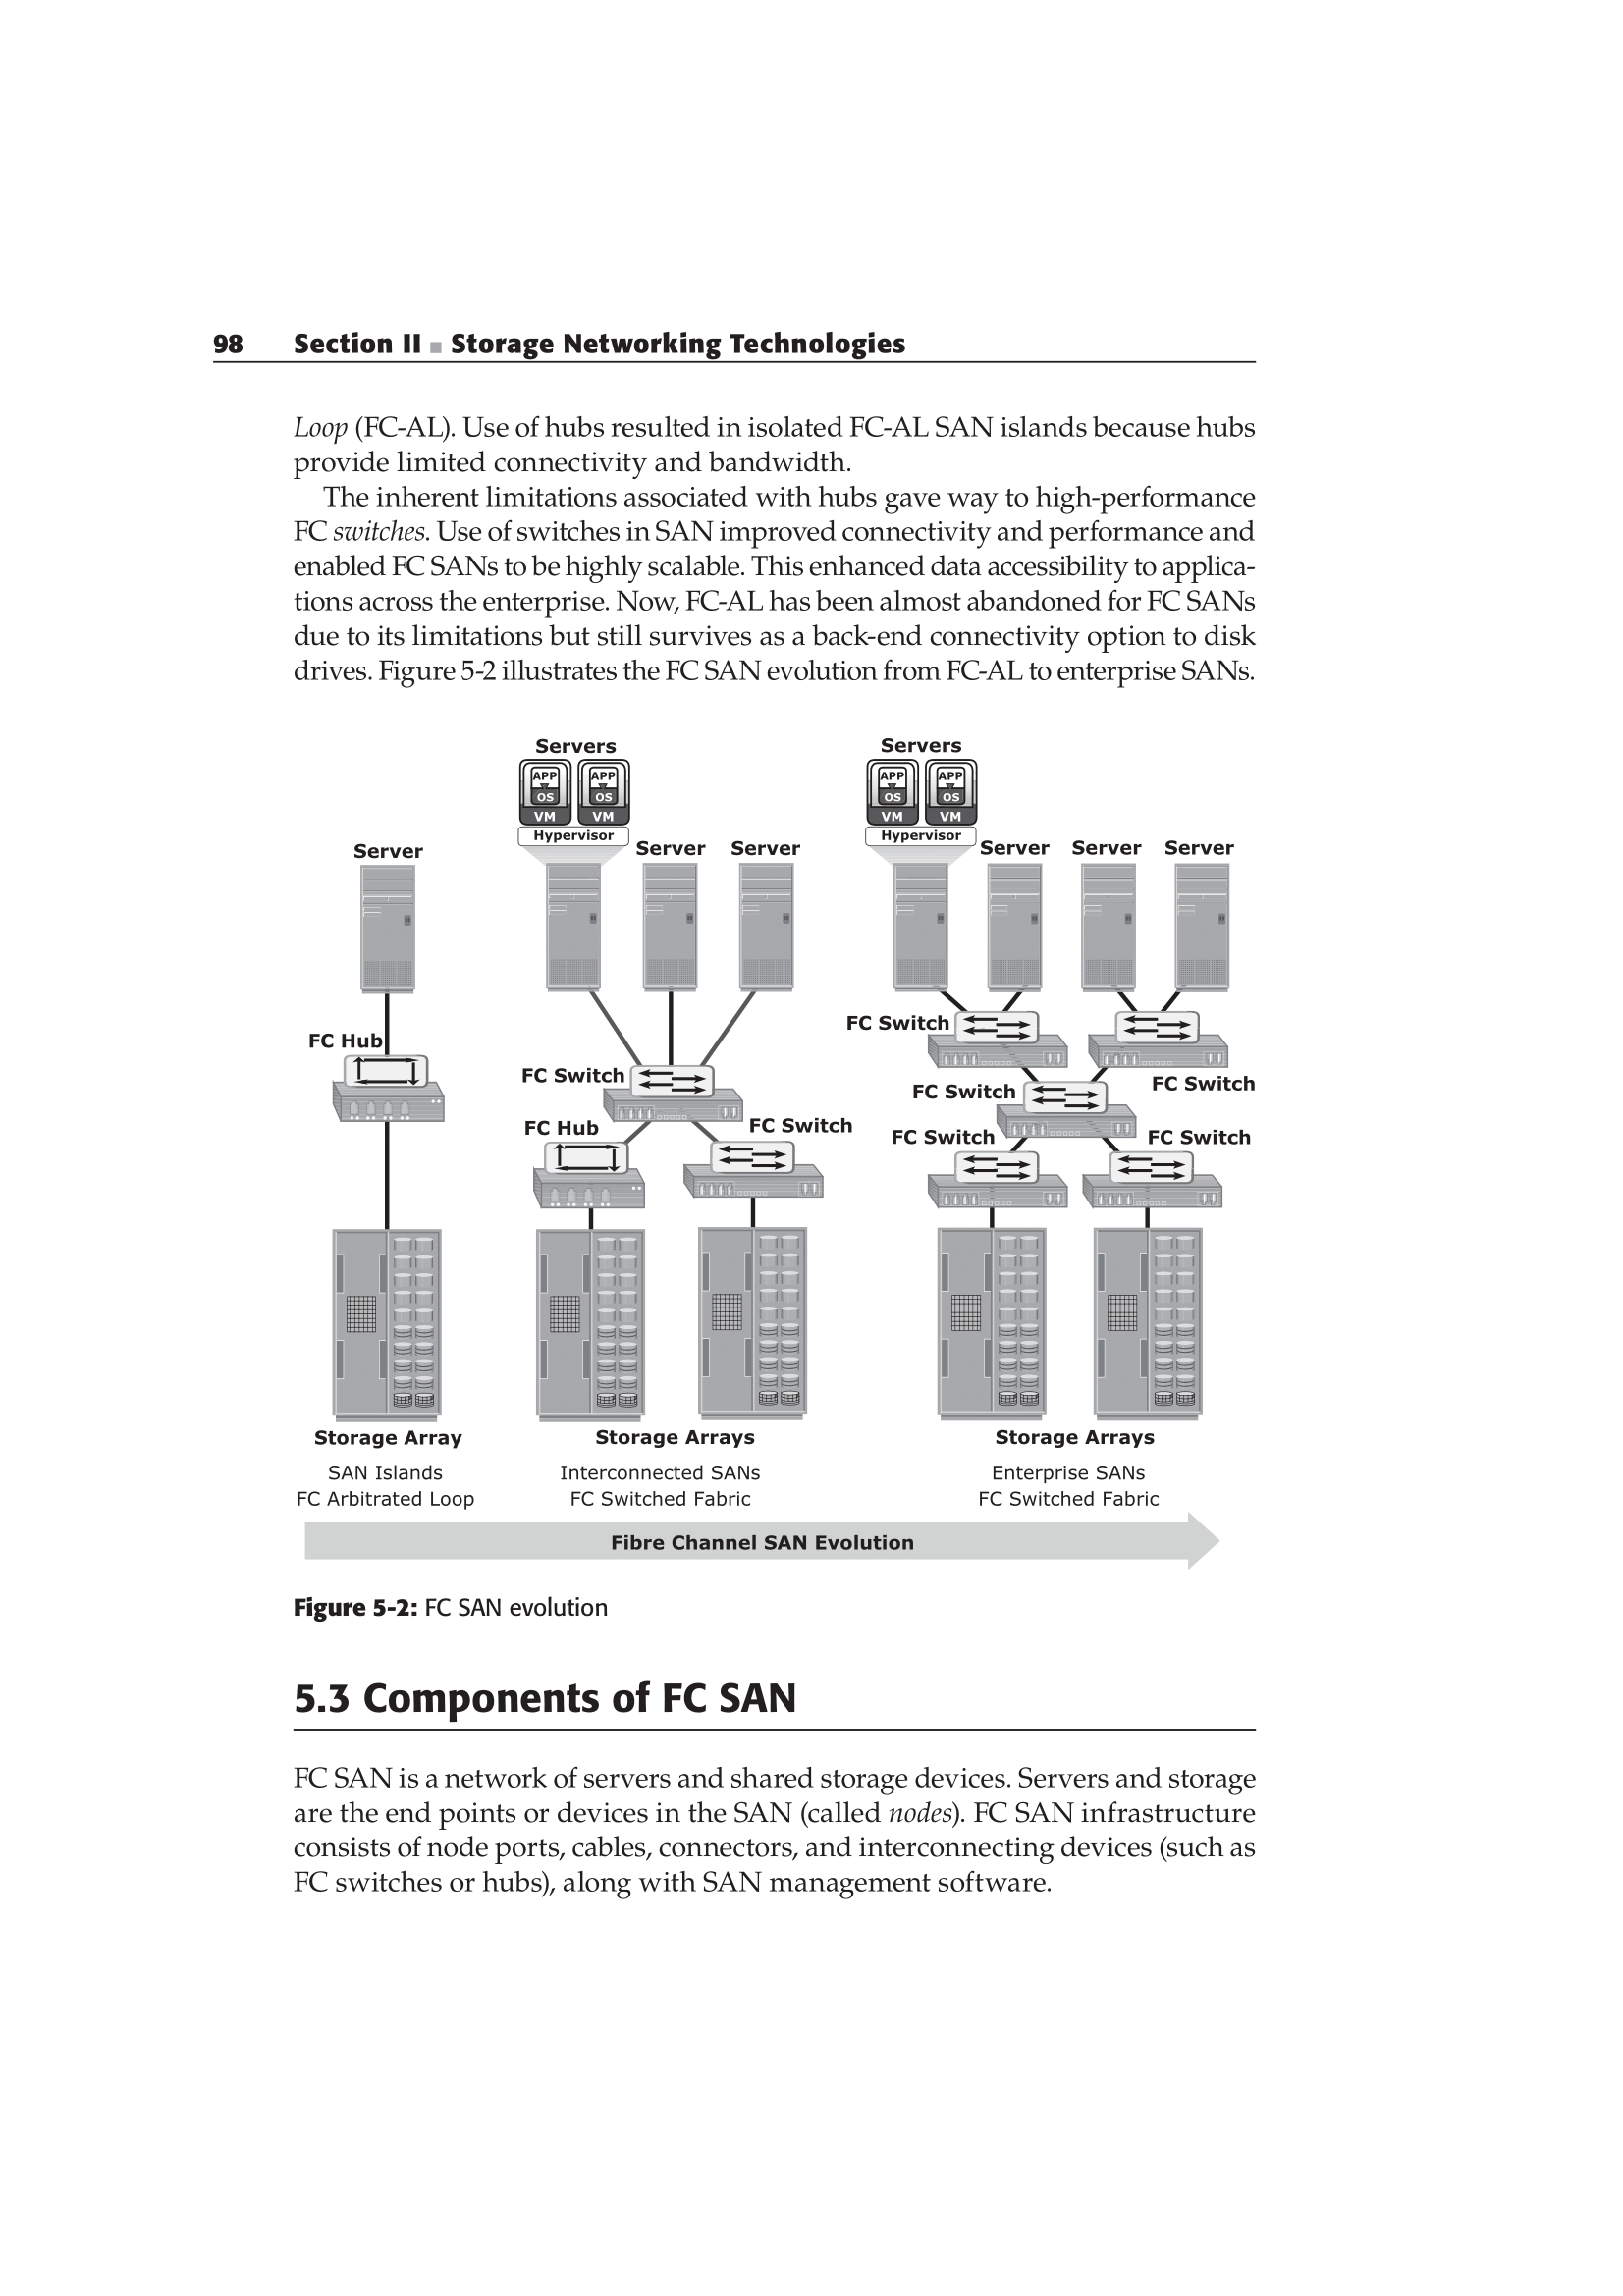Image: (58, 737, 1467, 1580)
Paragraph: (214, 486, 1354, 707), (218, 1764, 1316, 1906), (260, 407, 1316, 477), (251, 1668, 838, 1747), (251, 318, 985, 377), (151, 1583, 680, 1647)
